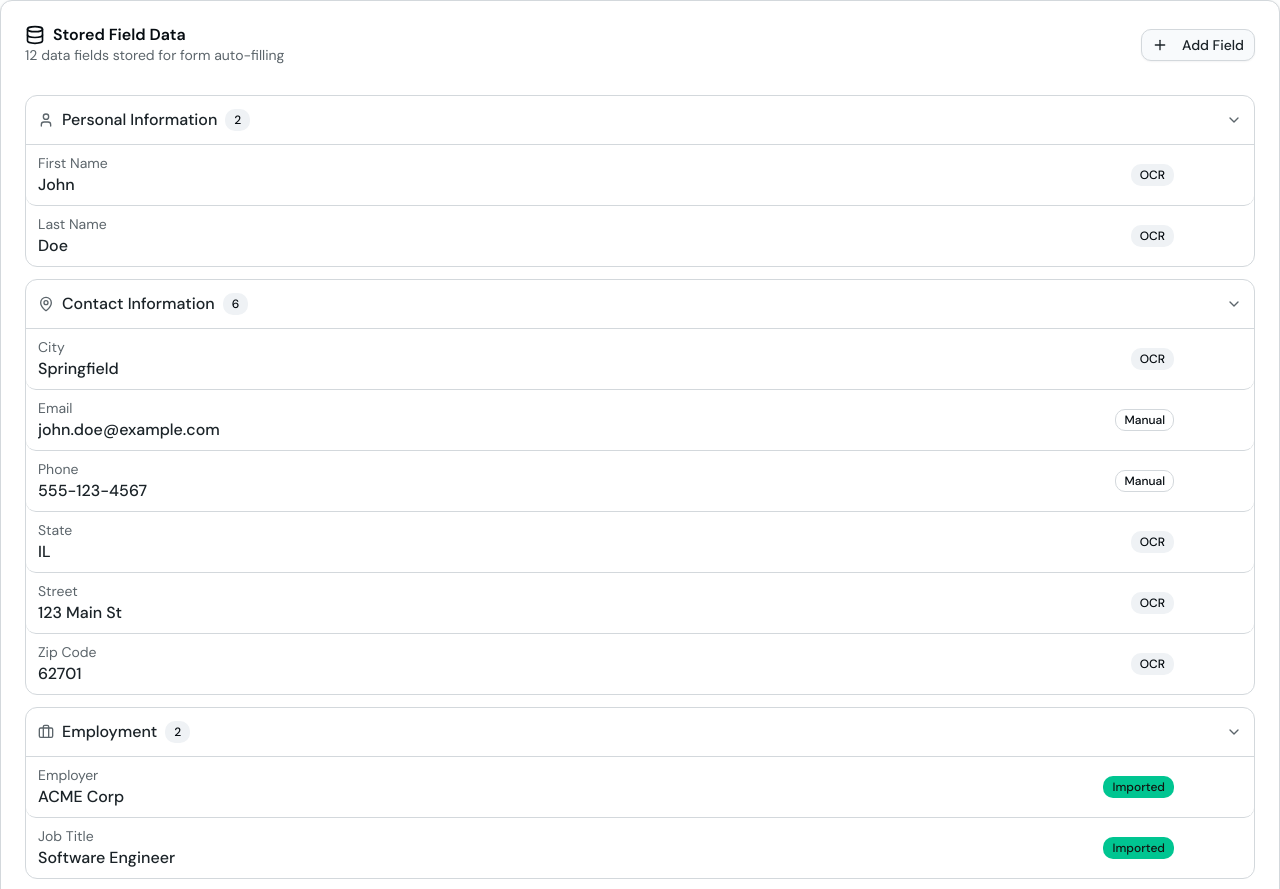
ProfileFieldsManager Component › Add Field › should add new field when form is submitted
Click the button "Add Field" at x=1198, y=45, box left=1141, top=29, right=1255, bottom=61
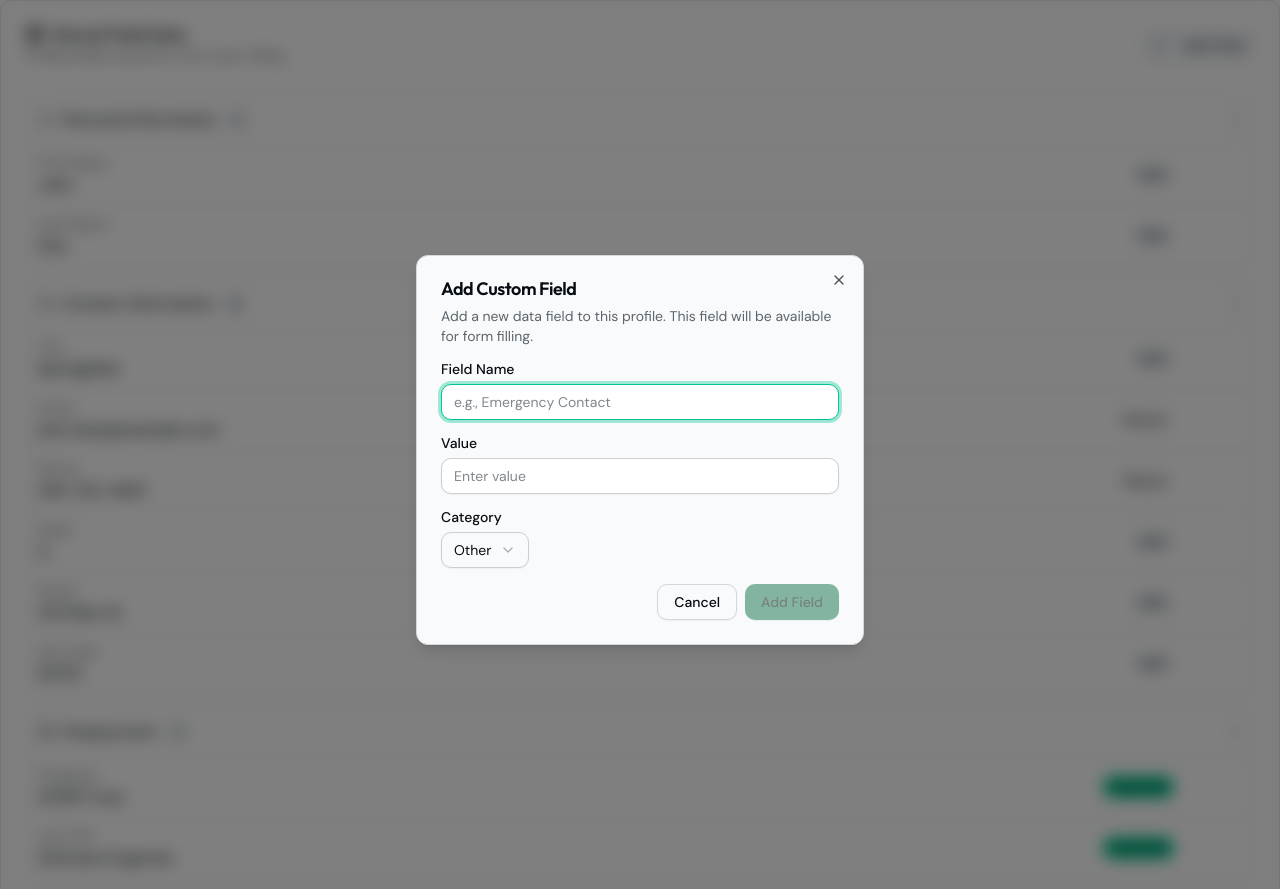
Now the field with placeholder "e.g., Emergency Contact" is shown
Type "Driver License" into the field with placeholder "e.g., Emergency Contact" at x=640, y=402, box left=441, top=384, right=839, bottom=420
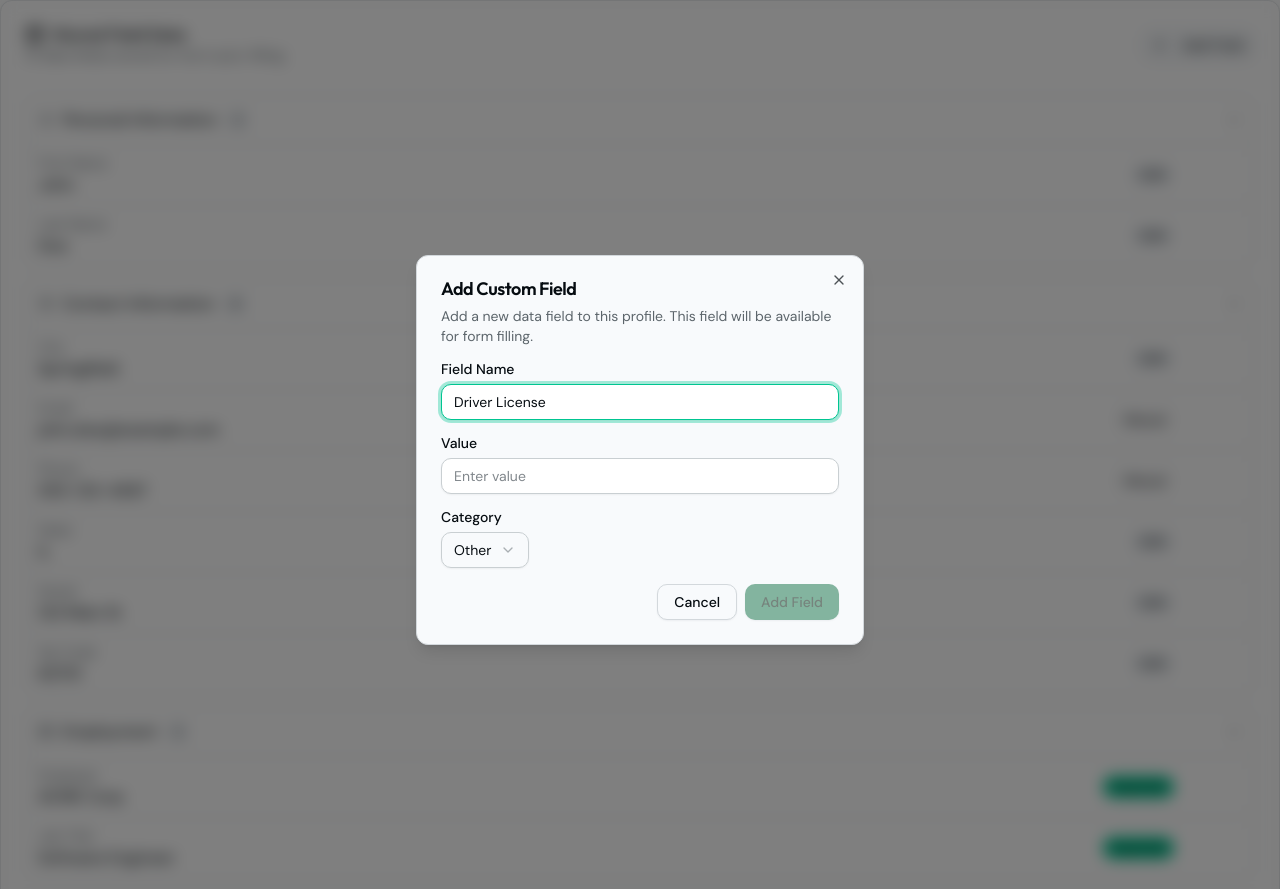
Type "DL123456" into the field with placeholder "Enter value" at x=640, y=476, box left=441, top=458, right=839, bottom=494
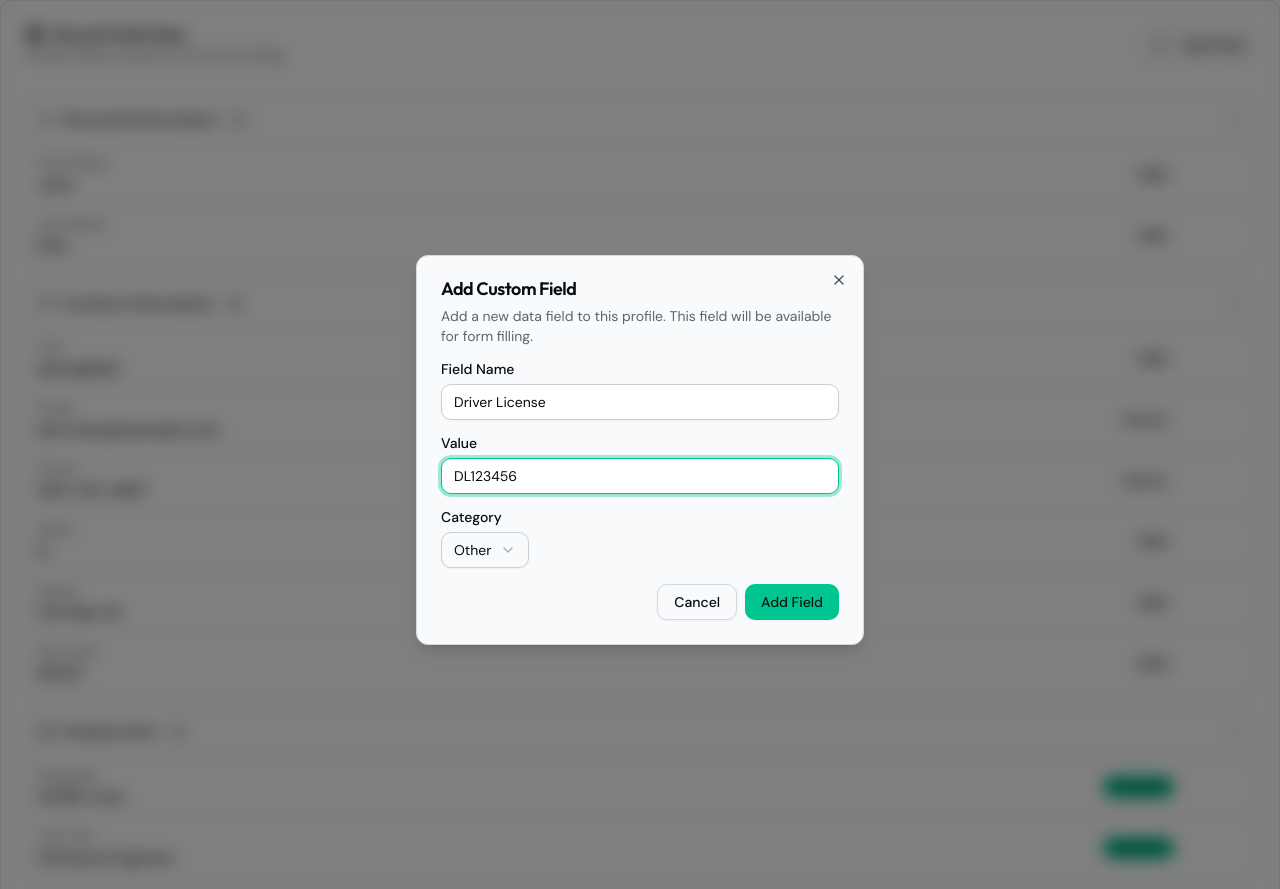
Submit the form - find the submit button in the dialog
Click the button "Add Field" at x=792, y=602, box left=745, top=584, right=839, bottom=620
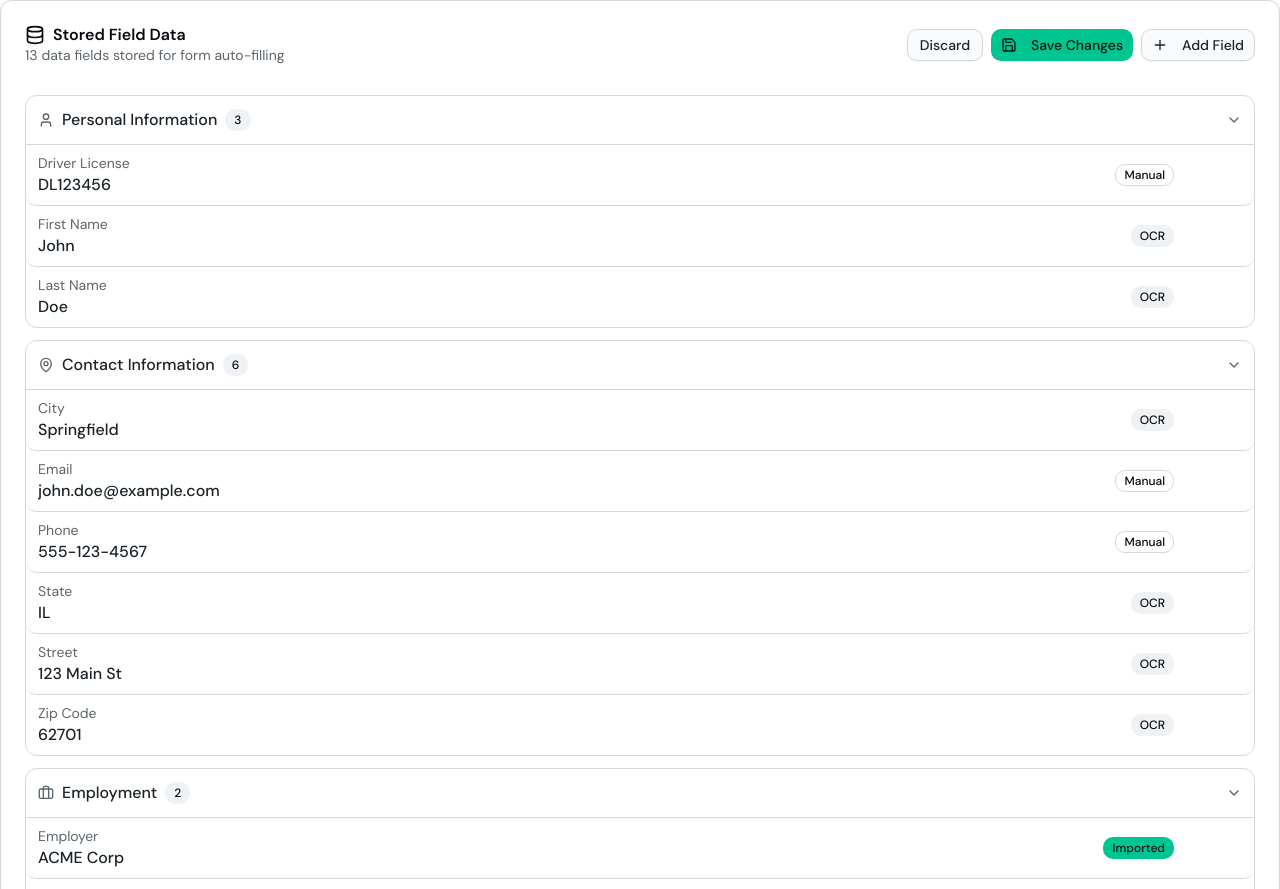
Now the button "Save Changes" is shown, box left=991, top=29, right=1133, bottom=61
